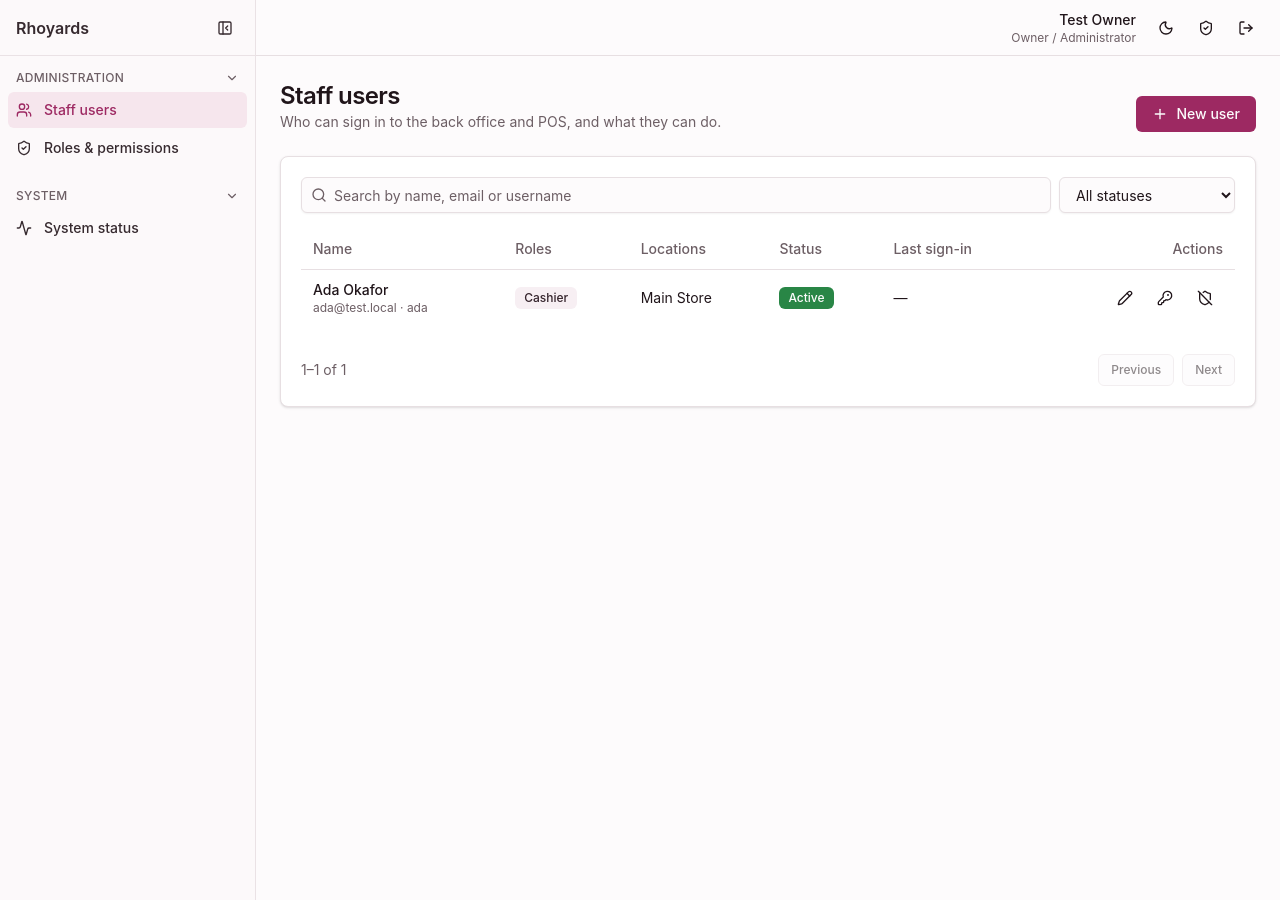
Test: UsersPage › shows a duplicate-email error from the server on the email field
The image size is (1280, 900).
Click the button "New user": point(1196, 114) [1136,96,1256,132]
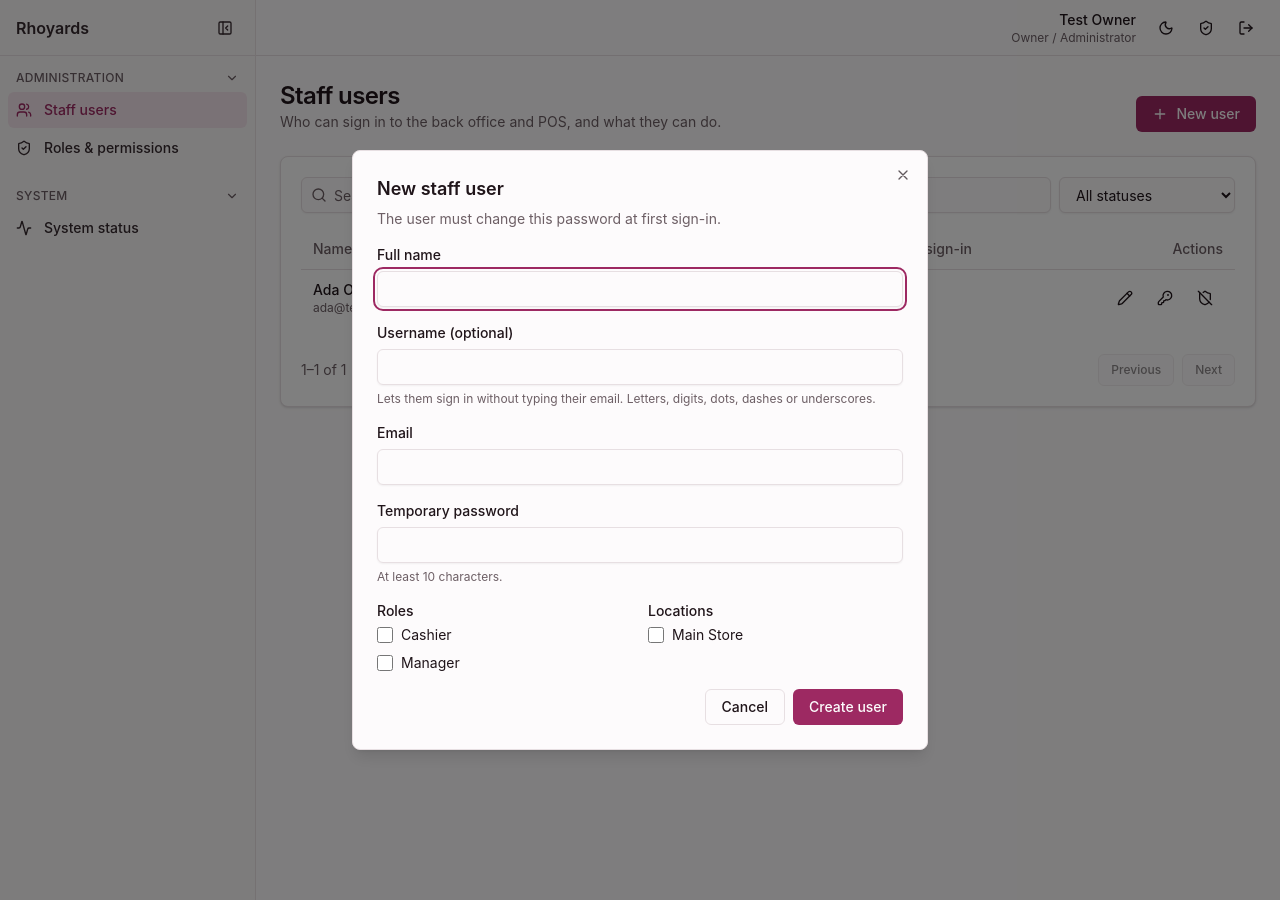
In the field labelled "Full name": point(640, 289) [377,271,903,307], type "Ada Again"
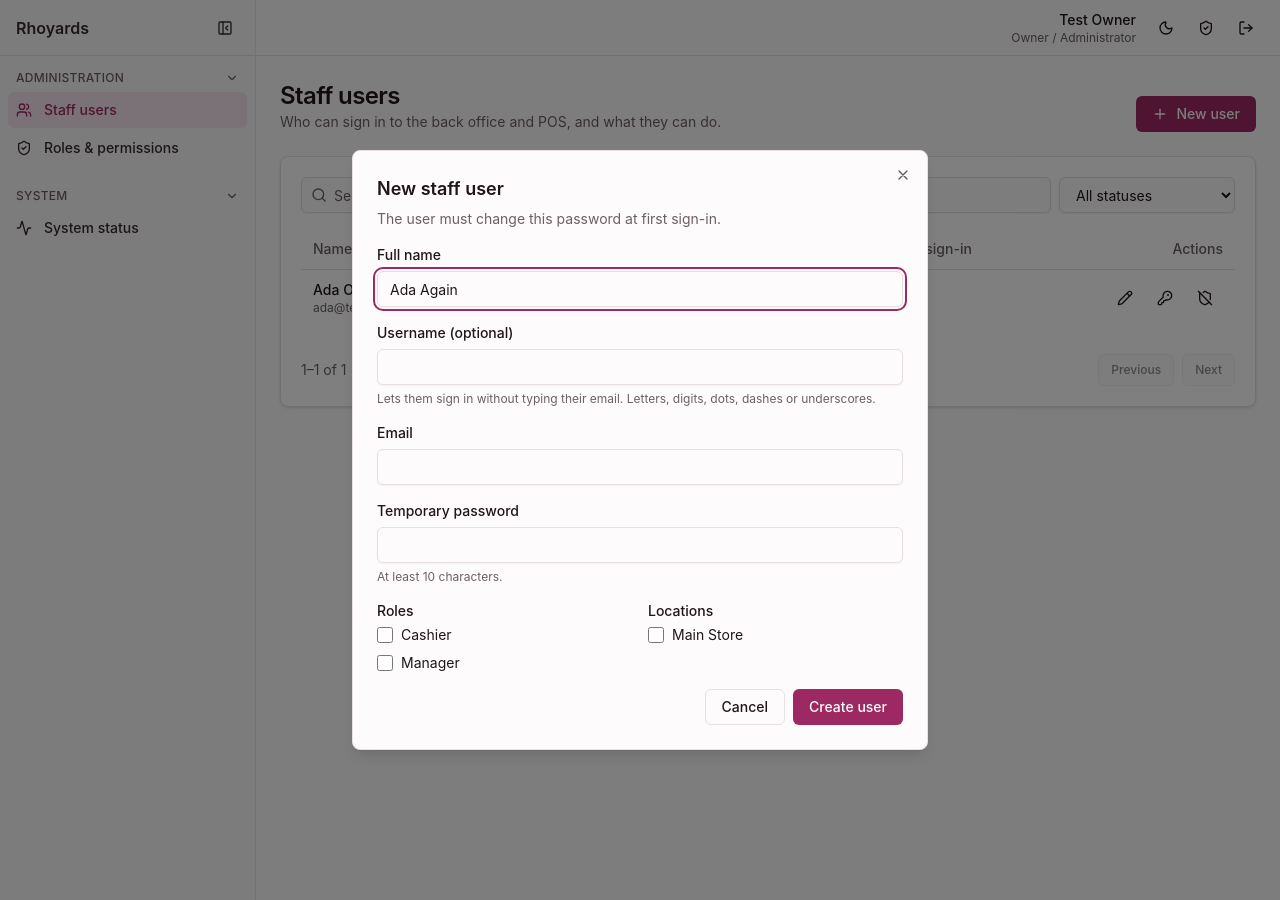
In the field labelled "Email": point(640, 467) [377,449,903,485], type "ada@test.local"
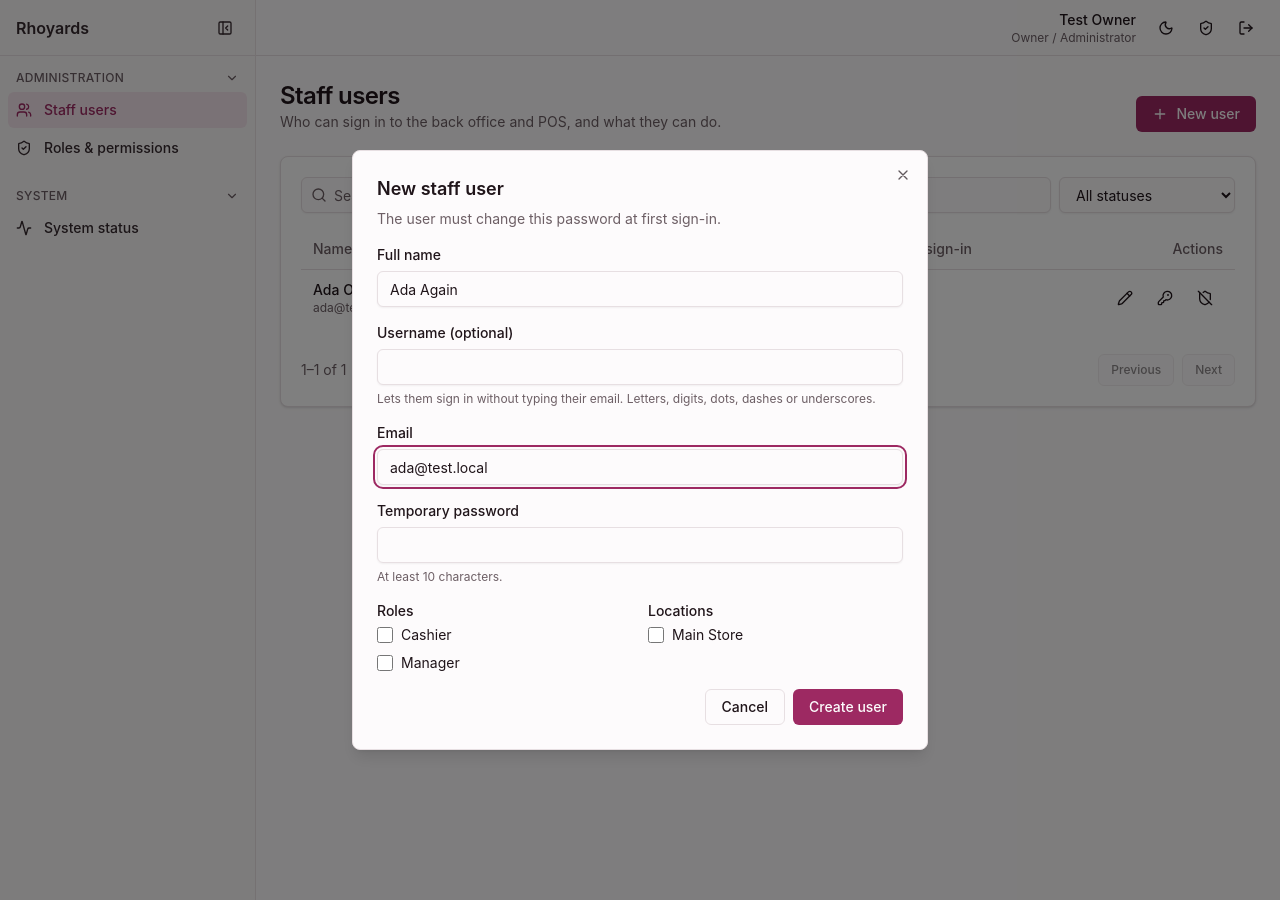
In the password field labelled "Temporary password": point(640, 545) [377,527,903,563], type "temporary-pass-1"
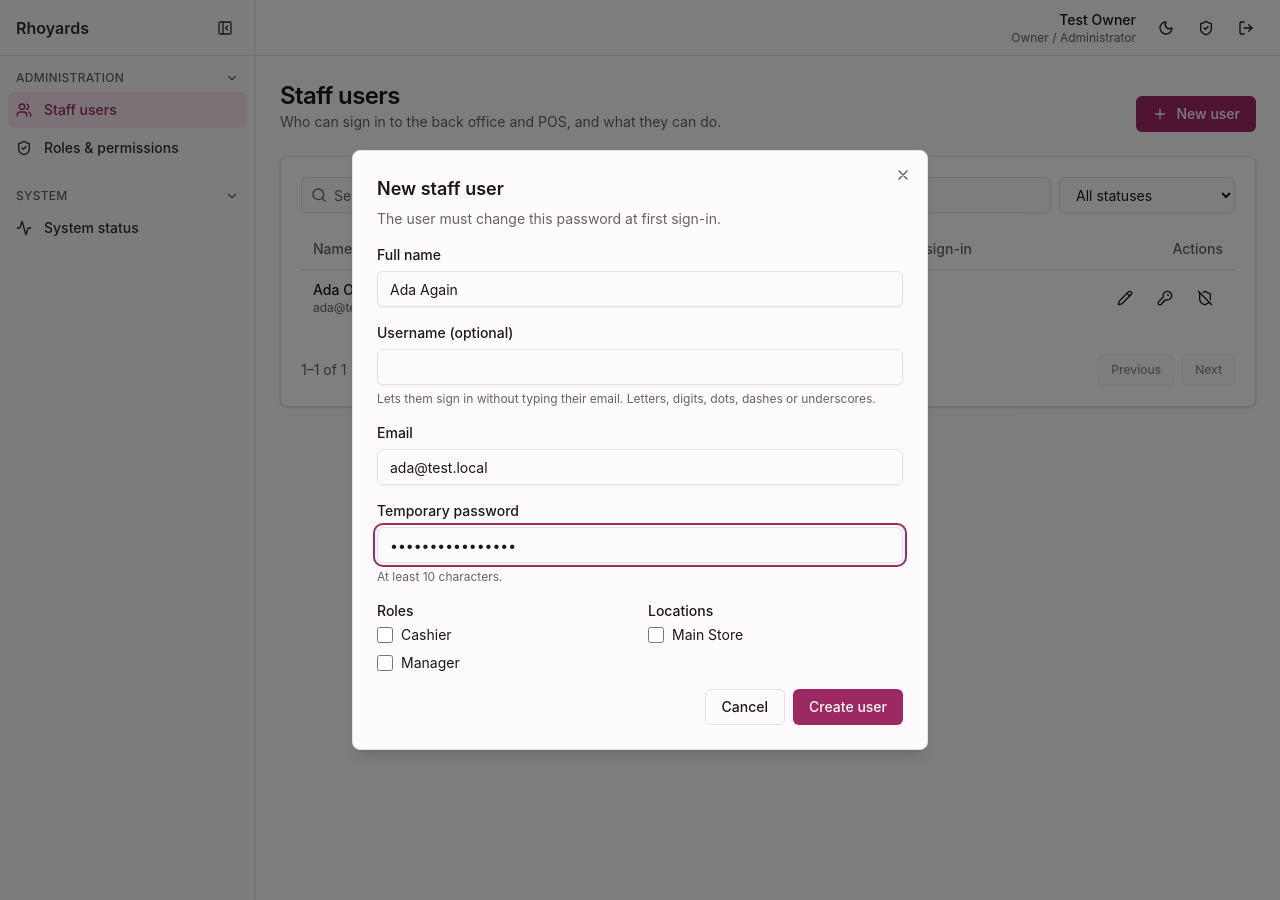
Click the checkbox labelled "Cashier": point(385, 635) [377,627,393,643]
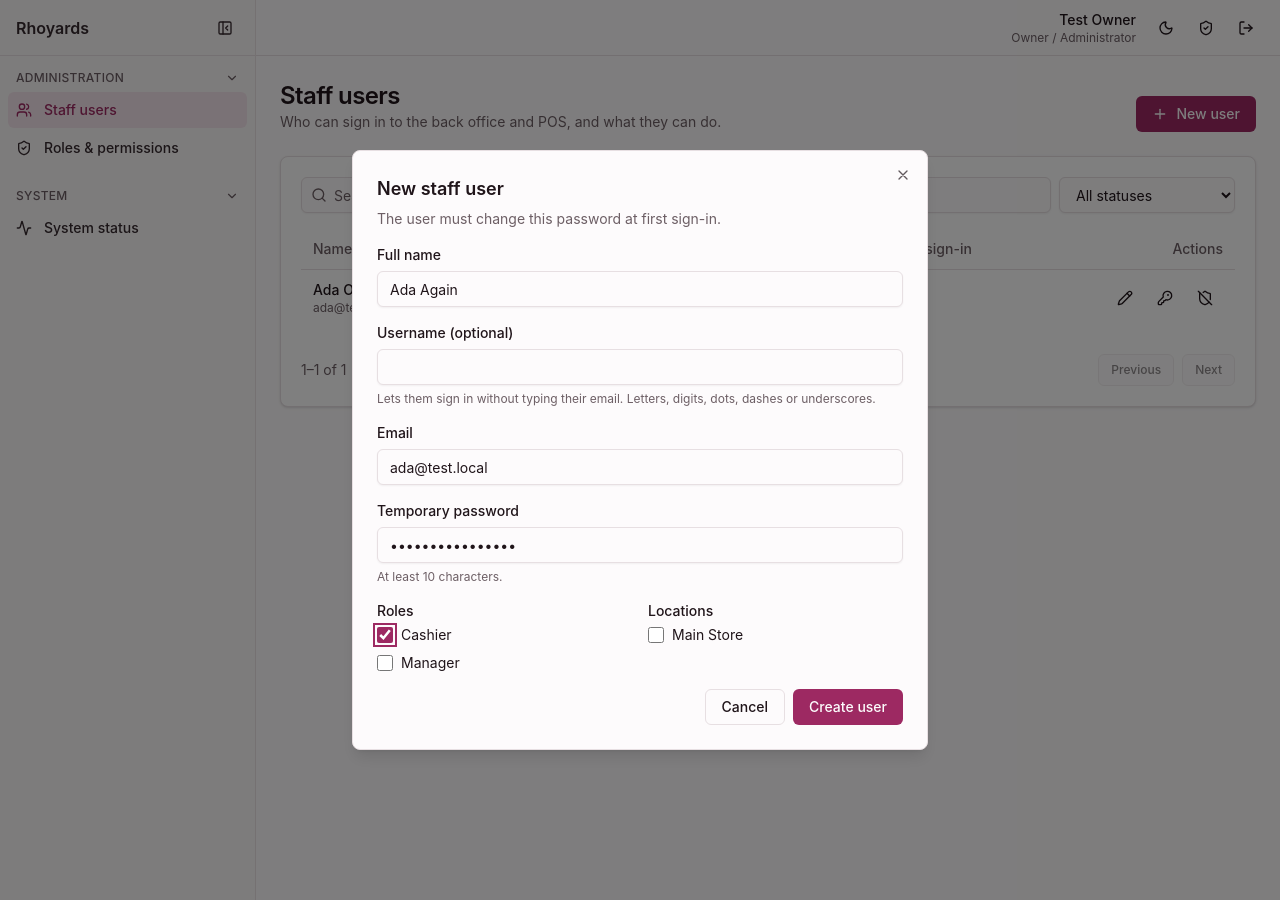
Click the button "Create user": point(848, 707) [793,689,903,725]
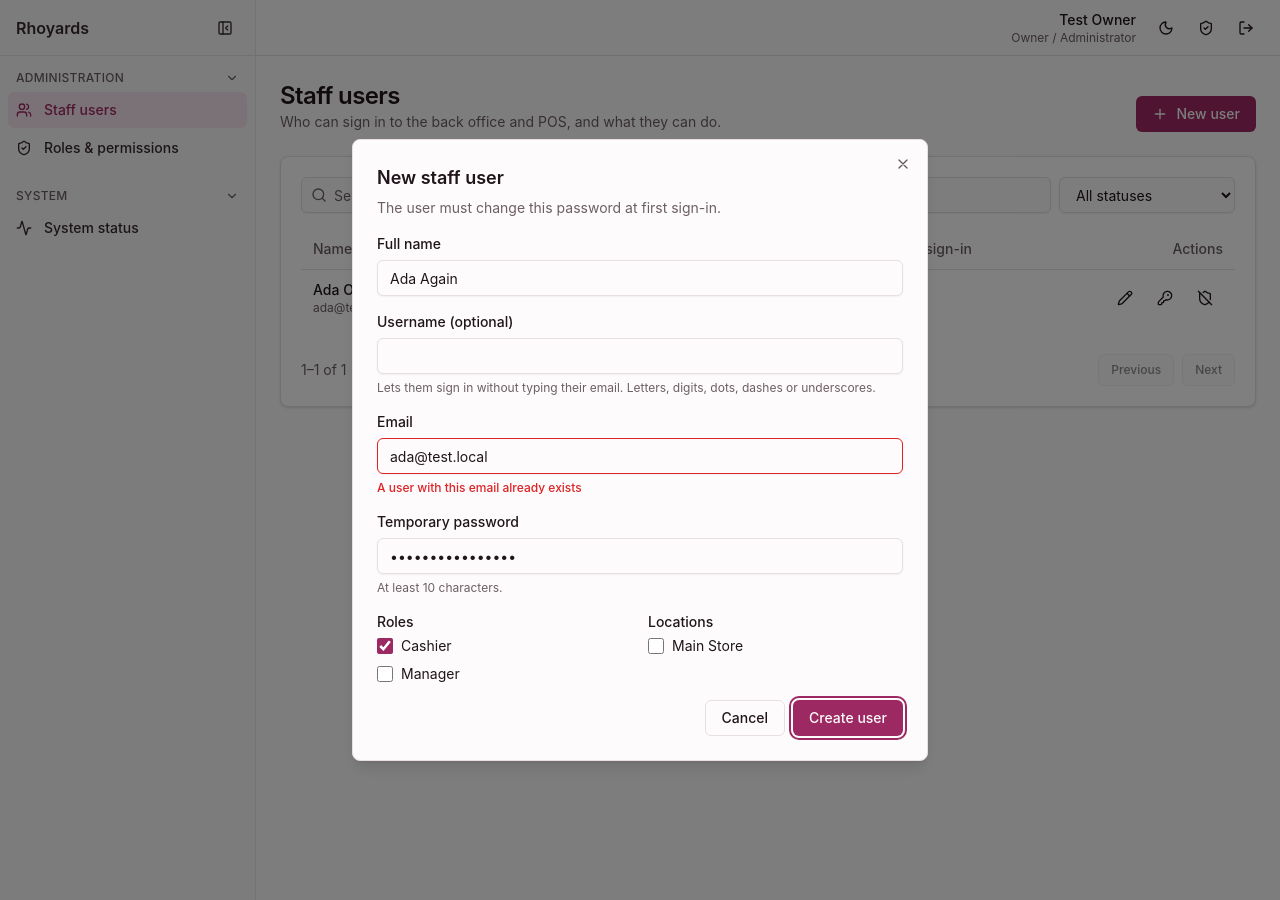
Expected: the text "A user with this email already exists" is shown, [377,480,582,495]
